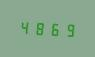eight: (32, 19, 45, 36)
four: (18, 18, 31, 36)
nine: (60, 20, 73, 38)
six: (46, 19, 59, 37)
